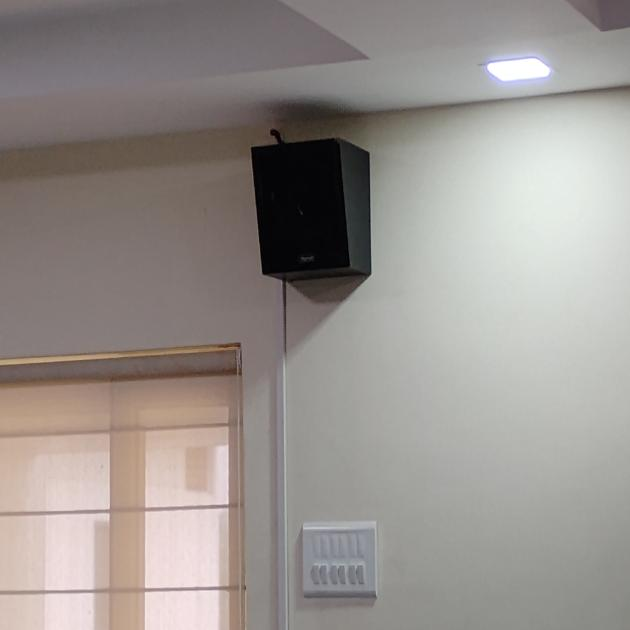light: (472, 32, 564, 104)
speaker: (235, 104, 412, 334)
windowscreen: (11, 333, 267, 630)
